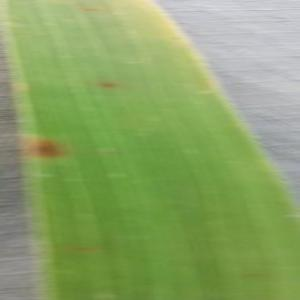Brown_Spot: (23, 132, 73, 166), (95, 77, 120, 91), (80, 3, 103, 14)
